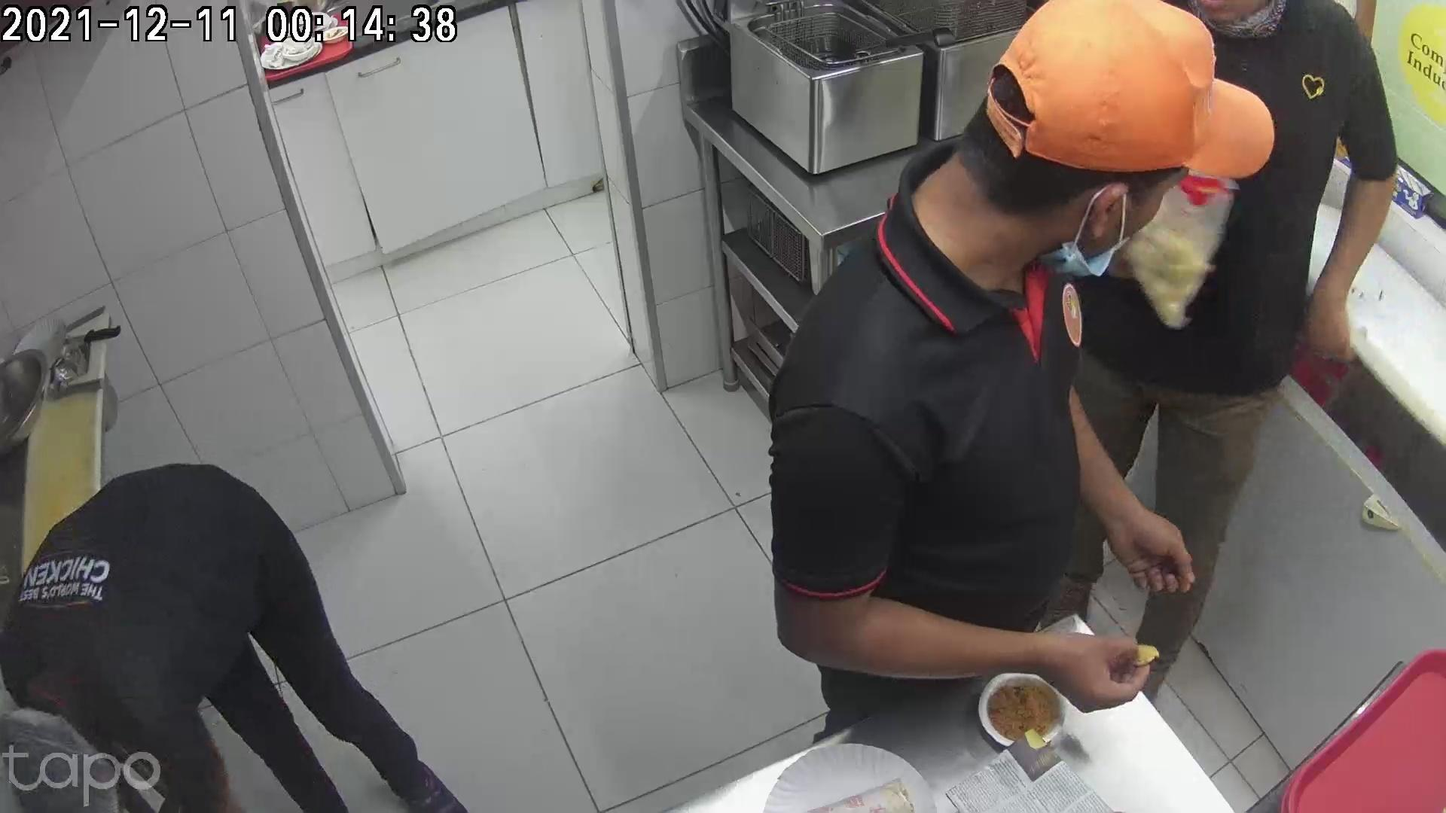gloves: (874, 616, 988, 750)
no_gloves: (1035, 585, 1115, 712)
